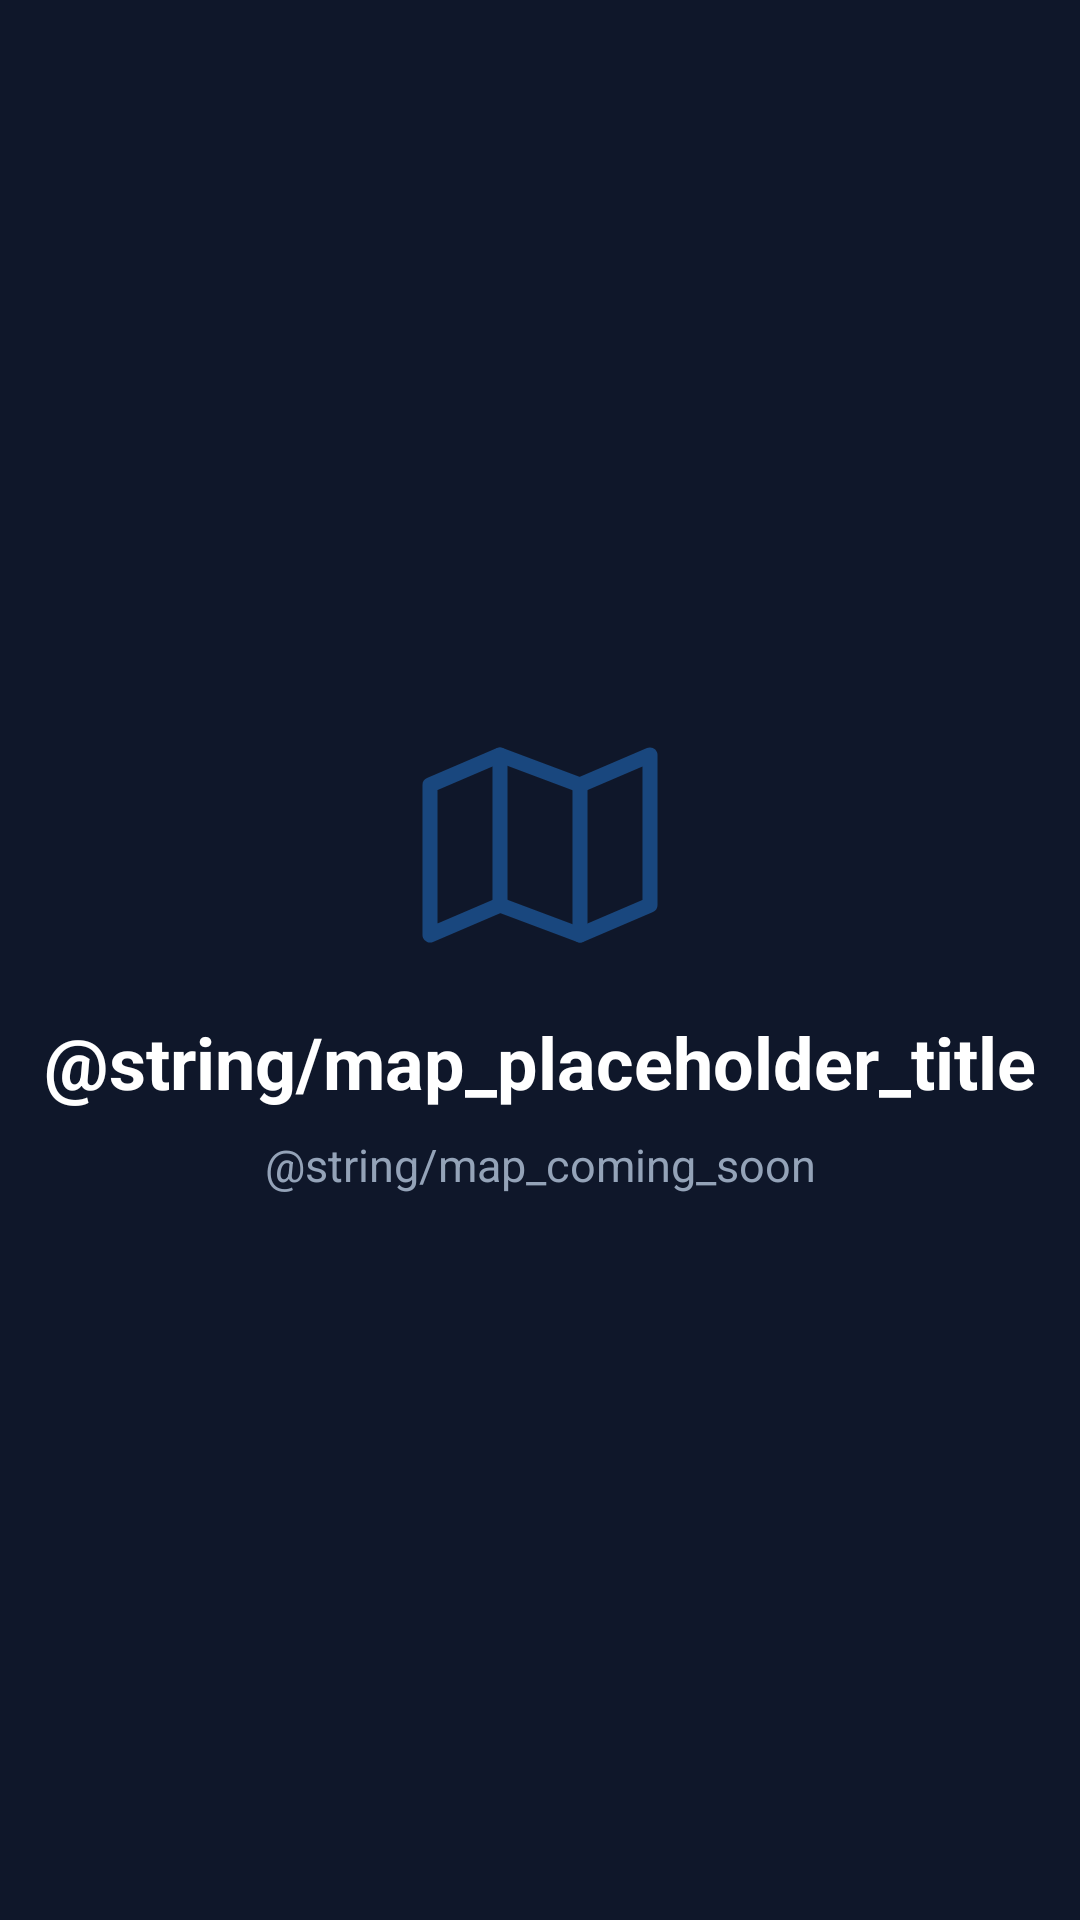

Named icons in this screenshot (1080px×1920px) and their bounding boxes, box(x1, y1, x2, y2):
Bản đồ: box(422, 747, 658, 943)
